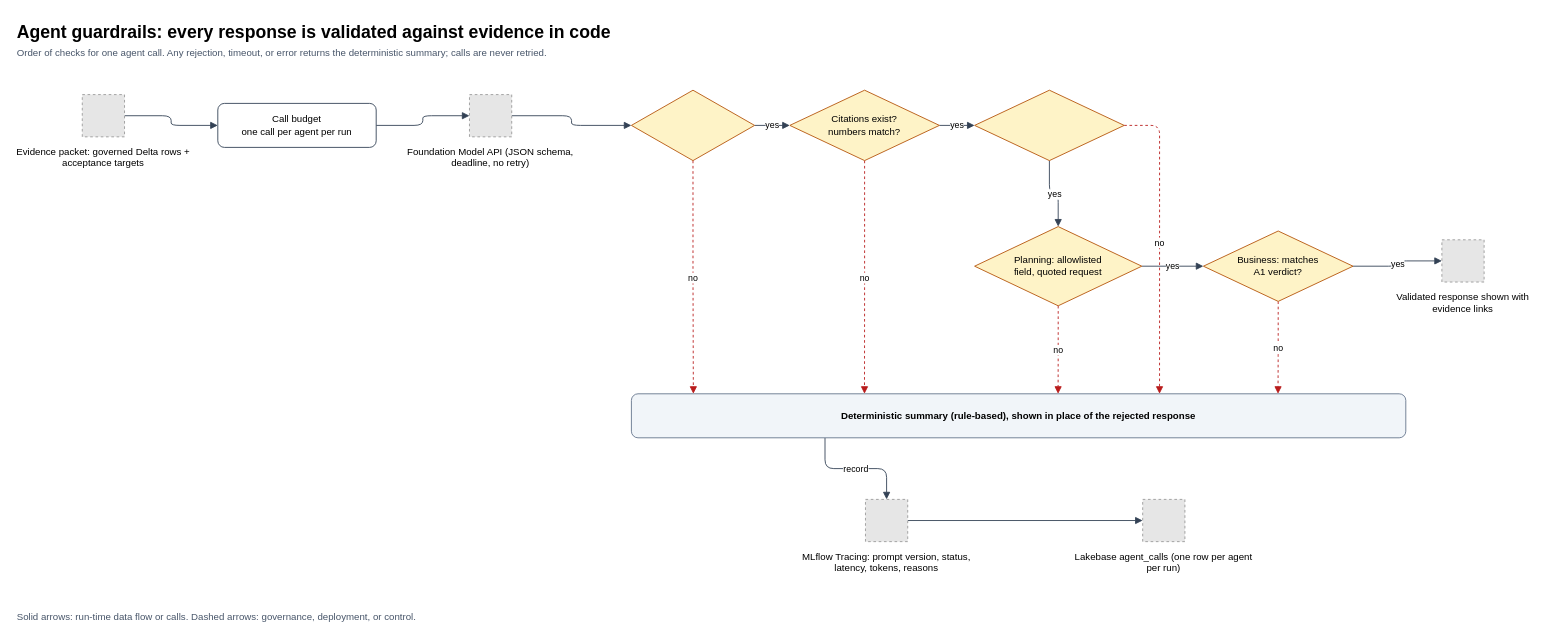
The diagram is 1552 pixels wide and 641 high, and some of its shapes have lost their labels. Grey dashed boxes stand in for pictures. Here are the shapes that lost their labels. From the top down, the centre of each, then its label:
At (693,125): "Schema valid?".
At (1049,125): "Comparisons typed and true?".
